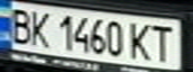0: (103, 18, 127, 57)
1: (51, 11, 75, 51)
4: (69, 14, 90, 53)
6: (87, 16, 109, 55)
B: (3, 4, 36, 45)
K: (124, 19, 157, 61), (24, 8, 54, 47)
T: (145, 21, 178, 62)
